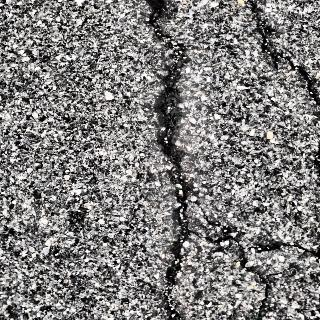alligator-crack: (156, 222, 320, 320)
crack: (134, 0, 202, 320)
